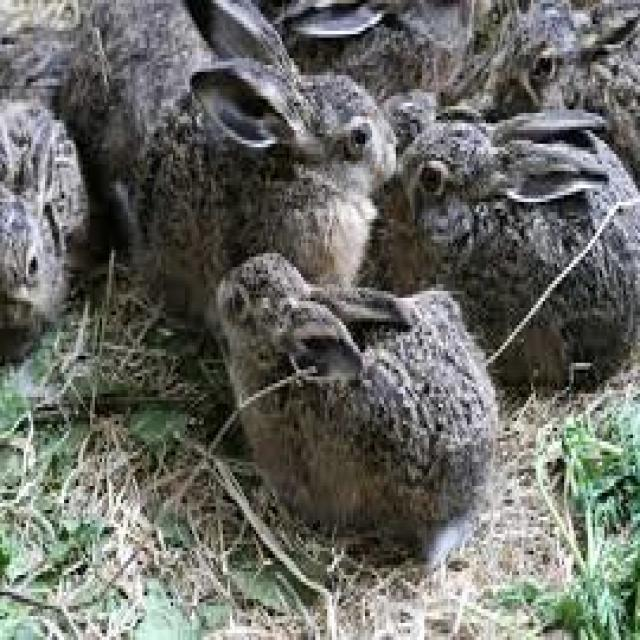hare: (218, 253, 498, 554), (149, 0, 396, 308), (401, 110, 640, 383), (2, 99, 90, 329)
